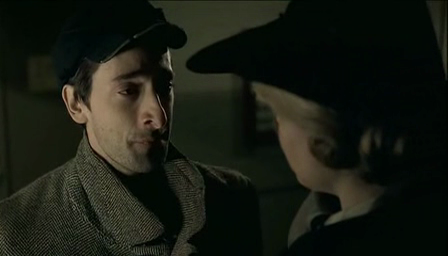cu: (1, 1, 448, 256)
face: (97, 48, 178, 175)
ots: (185, 1, 448, 256)
person: (1, 1, 263, 256)
